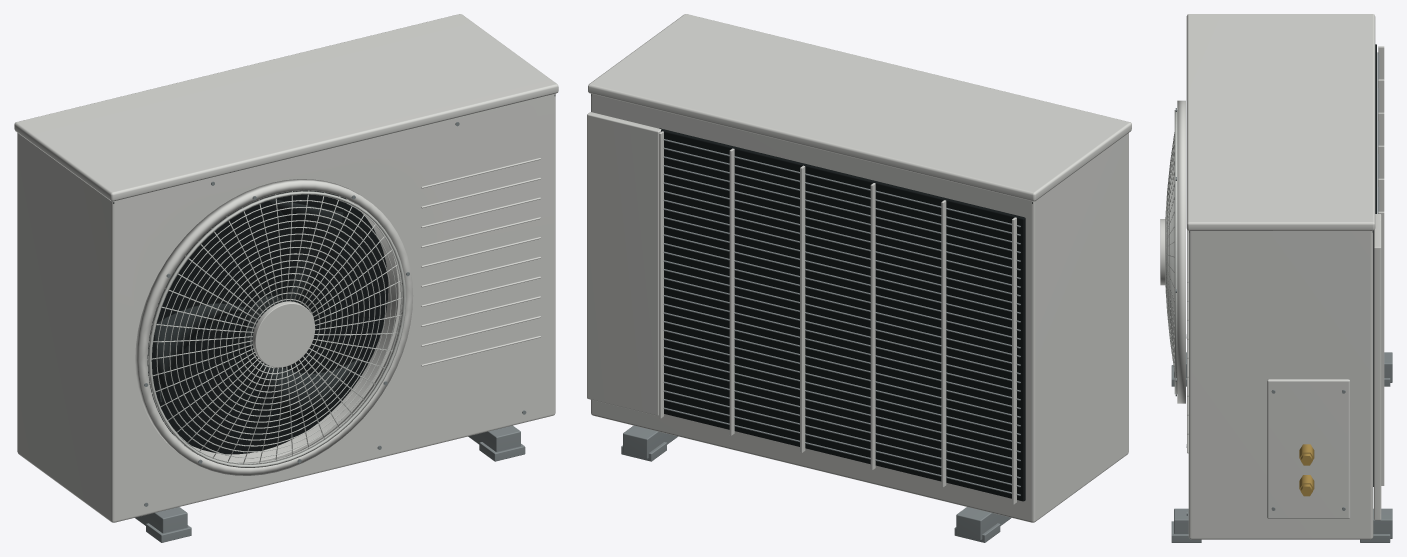
File: Outdoor_AC_v01.fbx
The picture shows the model from 3 angles, left to right: view 1: azimuth 30°, elevation 25°; view 2: azimuth 150°, elevation 25°; view 3: azimuth 270°, elevation 25°; orthographic projection. The views are drawn at different scales.
Visible parts, largest first — view 1: AC_StaticBody, AC_Fan; view 2: AC_StaticBody; view 3: AC_StaticBody.
Part boxes in pixels (<box>): AC_StaticBody: <box>14,14,558,542</box>; AC_Fan: <box>154,197,361,426</box>; AC_StaticBody: <box>587,14,1131,542</box>; AC_StaticBody: <box>1160,14,1392,542</box>.
Bounding box in the file's own units: 0.8495 × 0.611 × 0.3775.
